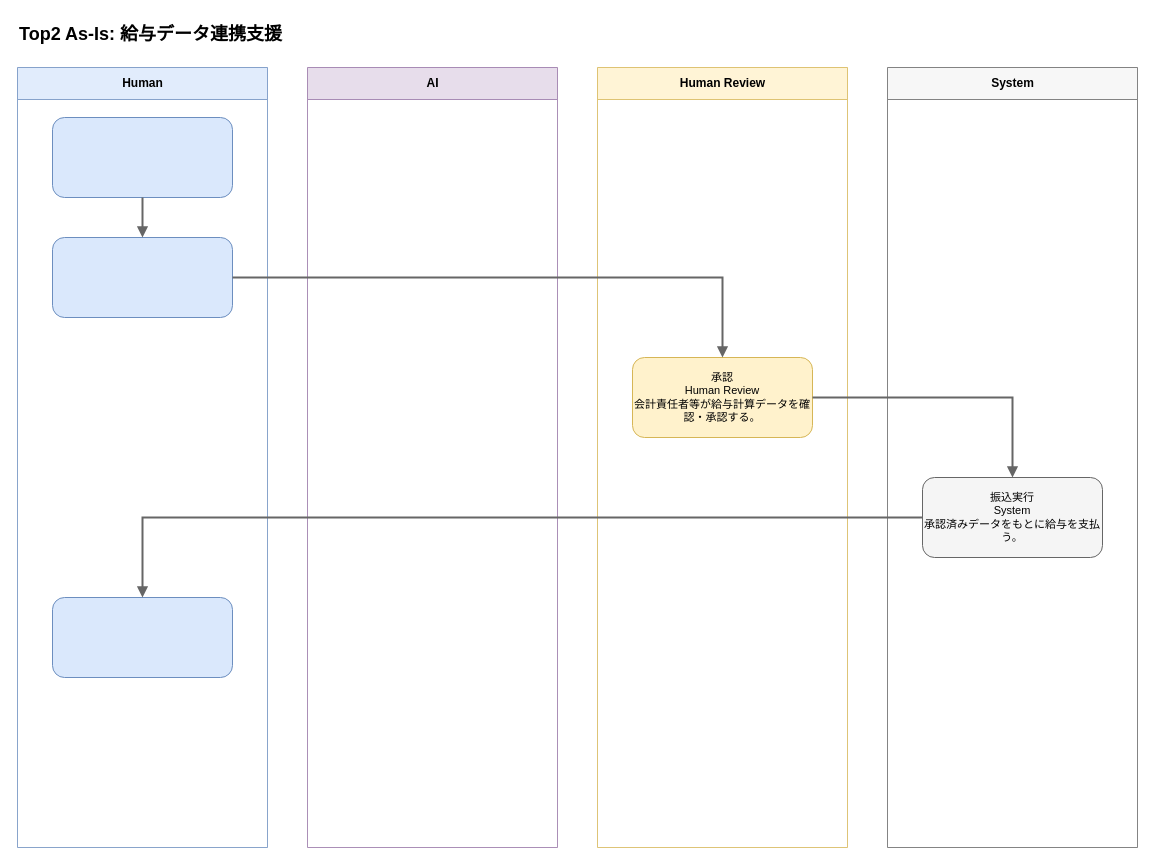
This 1155x865 diagram has some shape labels left out. The centre of each missing label's shape, as x and y in pixels:
勤怠情報収集 Human 日報・勤怠情報を集め、不備を確認する。: (x=142, y=157)
給与仕訳入力 Human 給与支払時の会計仕訳を会計システムへ入力する。: (x=142, y=637)
給与計算入力 Human 給与計算システムに勤怠・手当・控除情報を入力する。: (x=142, y=277)
